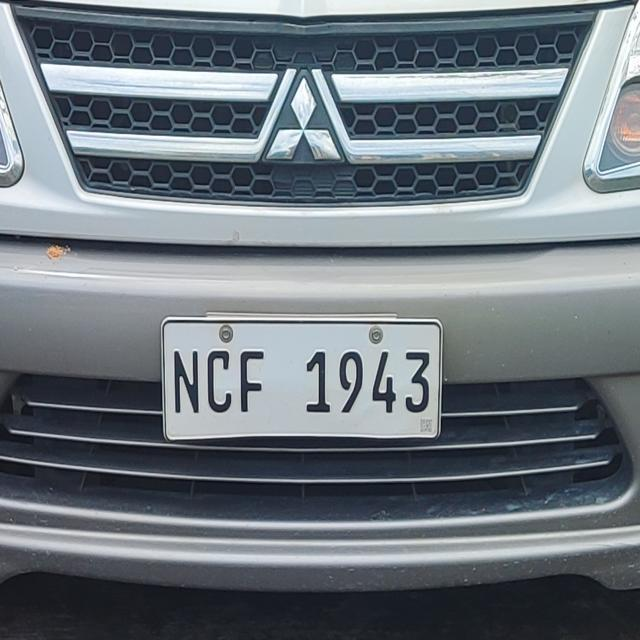LicensePlate: (151, 302, 447, 448)
